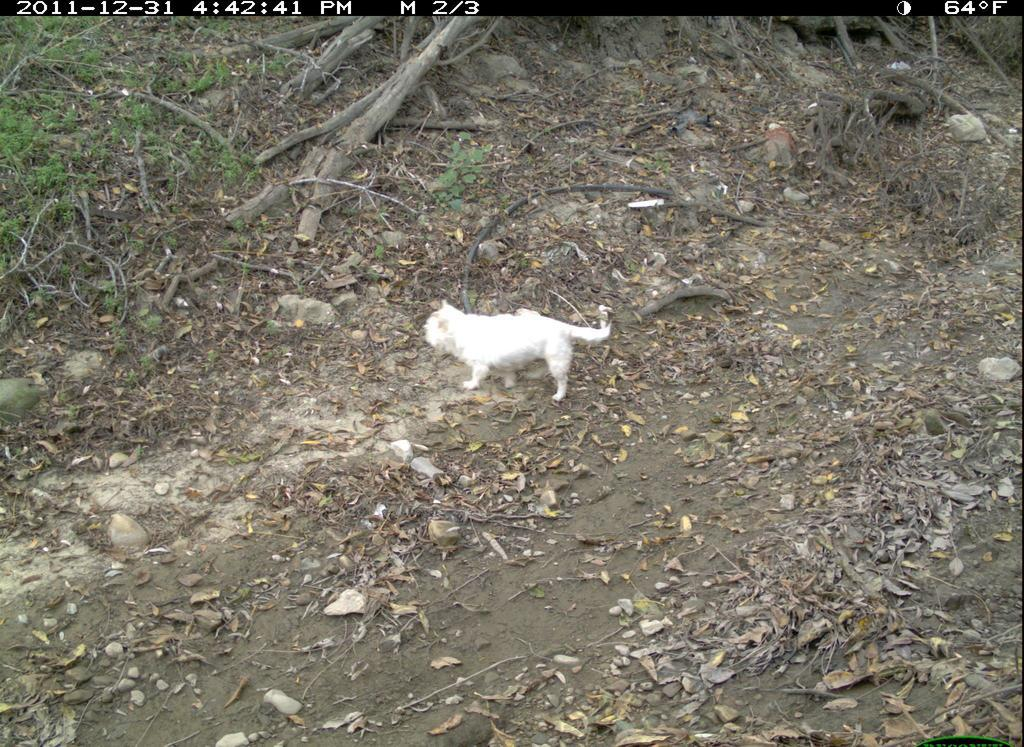dog: (420, 292, 620, 415)
